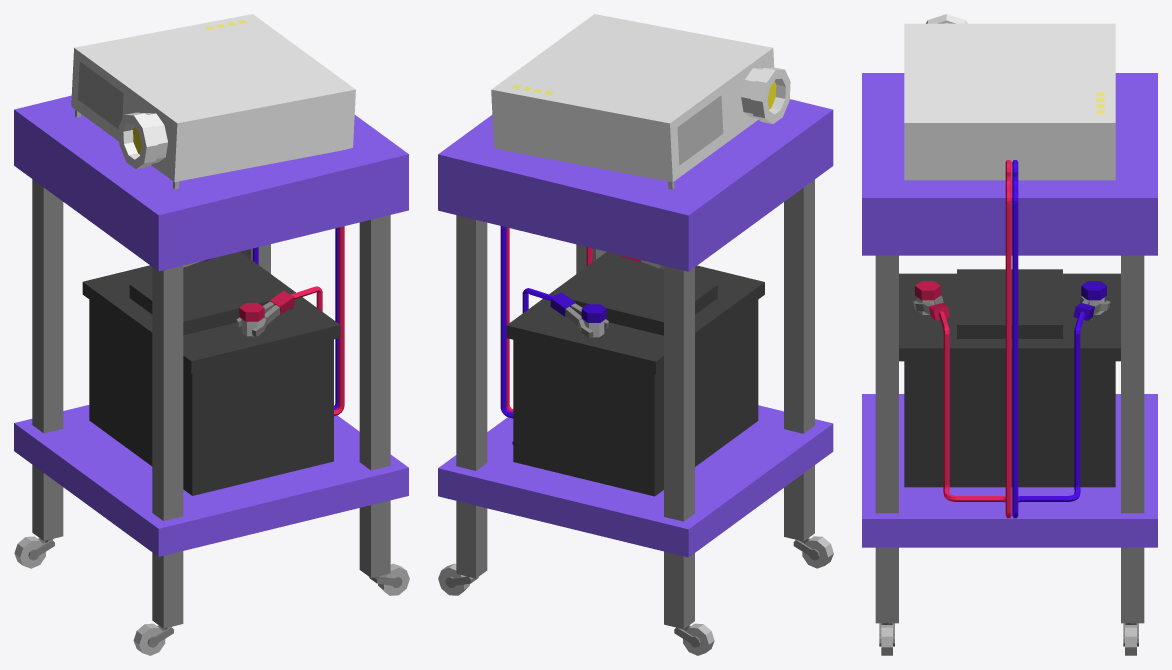
File: projetor.fbx
3 renders of one model, left to right at view 1: azimuth 30°, elevation 25°; view 2: azimuth 150°, elevation 25°; view 3: azimuth 270°, elevation 25°, orthographic. The views are drawn at different scales.
Visible parts, largest first — view 1: Projetor; view 2: Projetor; view 3: Projetor.
Boxes of the visible parts, x1,y1,x2,y2 form: Projetor: (14,14,409,655); Projetor: (438,14,833,655); Projetor: (862,14,1157,655).
Bounding box in the file's own units: 151 × 275 × 140.
